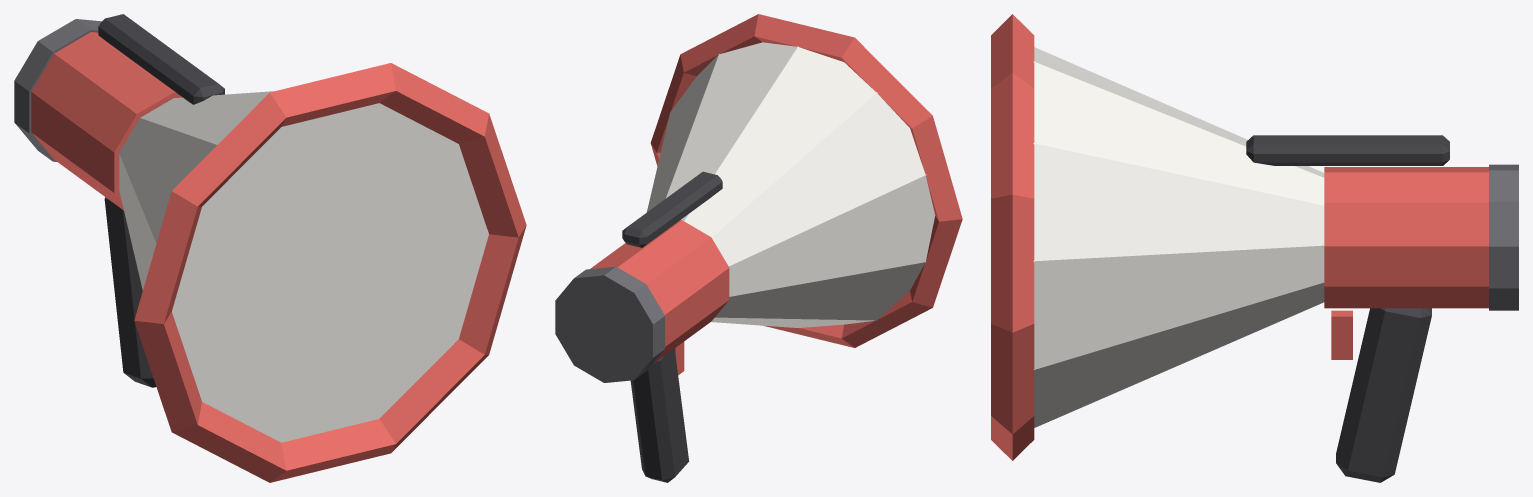
The model's file is prop_megaphone_01.glb.
3 renders of one model, left to right at view 1: azimuth 30°, elevation 25°; view 2: azimuth 150°, elevation 25°; view 3: azimuth 270°, elevation 25°, orthographic. The views are drawn at different scales.
Parts seen in each view (by area): view 1: prop_megaphone_01_body; view 2: prop_megaphone_01_body; view 3: prop_megaphone_01_body.
Part boxes in pixels (<box>): prop_megaphone_01_body: <box>14,14,526,482</box>; prop_megaphone_01_body: <box>555,14,962,482</box>; prop_megaphone_01_body: <box>991,14,1518,482</box>.
Size of the model in its own units: 0.376 by 0.4001 by 0.4405.
